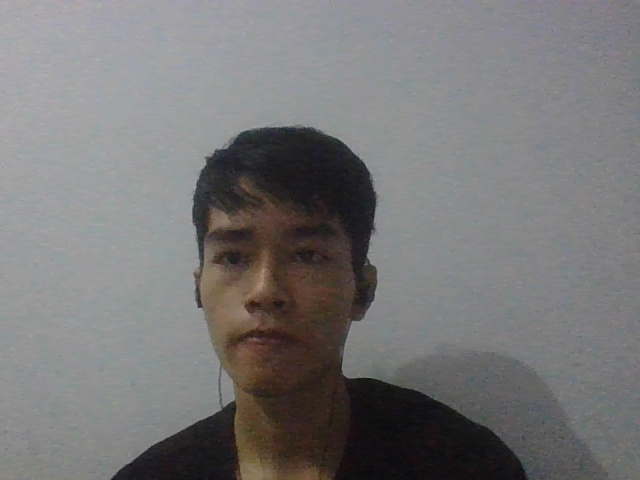real: (173, 102, 389, 408)
